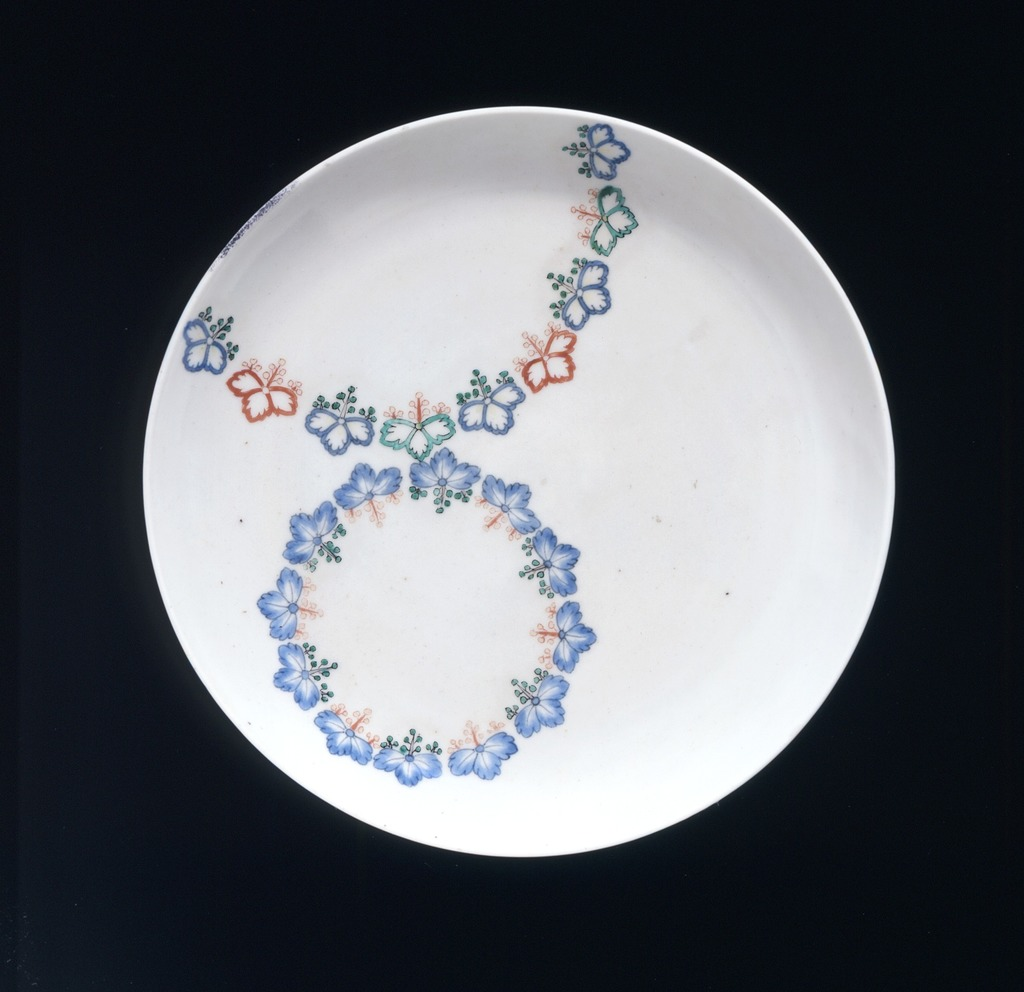plate: (136, 80, 884, 856)
